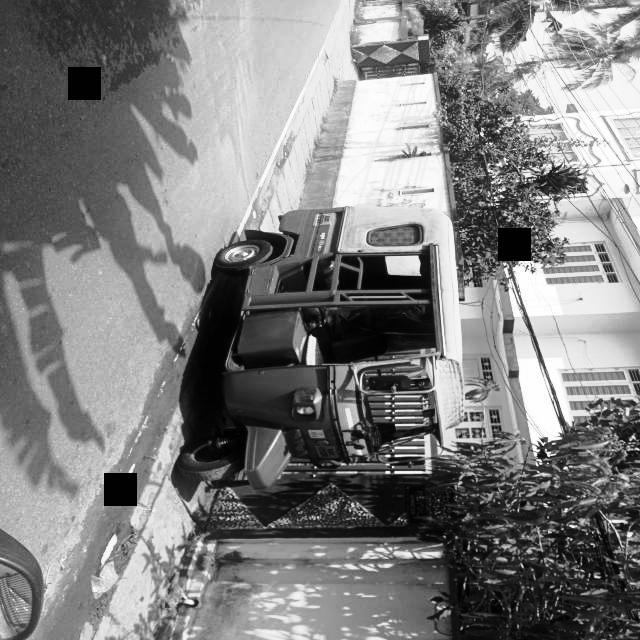Auto-Rickshaw: (174, 179, 462, 494)
